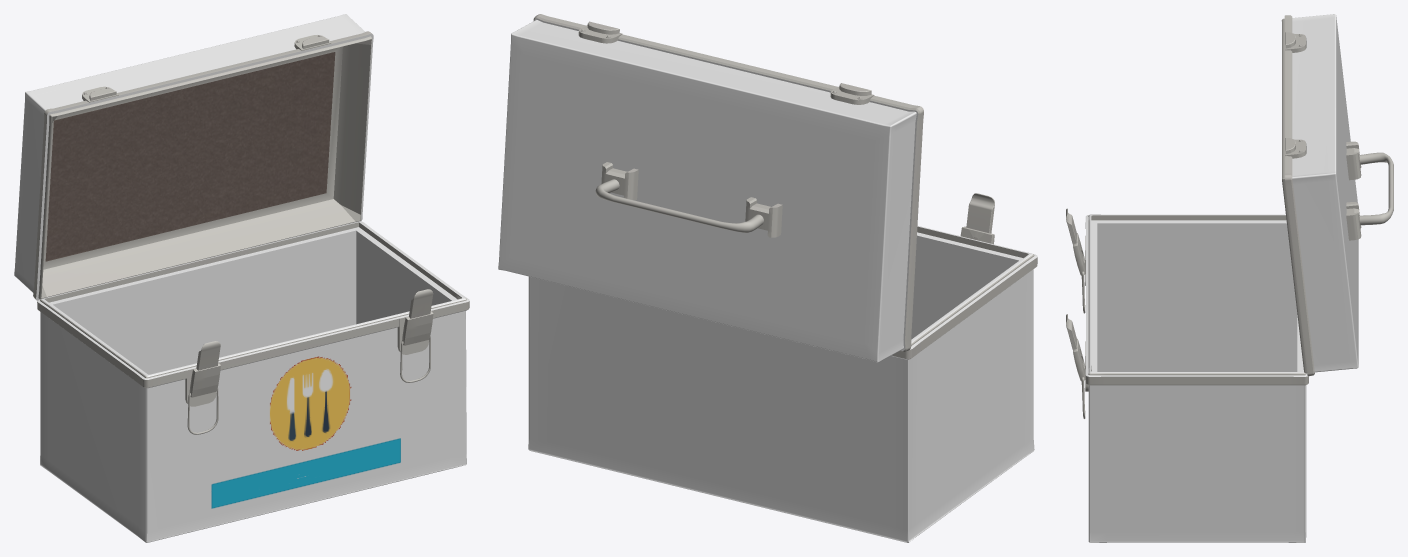
The picture shows the model from 3 angles, left to right: view 1: azimuth 30°, elevation 25°; view 2: azimuth 150°, elevation 25°; view 3: azimuth 270°, elevation 25°; orthographic projection. The views are drawn at different scales.
Parts seen in each view (by area): view 1: opened_medicinebox_v3_uv_combined_mesh_result_medicineboxv3_ (×2); view 2: opened_medicinebox_v3_uv_combined_mesh_result_medicineboxv3_ (×2); view 3: opened_medicinebox_v3_uv_combined_mesh_result_medicineboxv3_ (×2).
Part boxes in pixels (x1=…): opened_medicinebox_v3_uv_combined_mesh_result_medicineboxv3_ (×2): x1=14, y1=14, x2=469, y2=542; opened_medicinebox_v3_uv_combined_mesh_result_medicineboxv3_ (×2): x1=498, y1=14, x2=1037, y2=542; opened_medicinebox_v3_uv_combined_mesh_result_medicineboxv3_ (×2): x1=1066, y1=14, x2=1393, y2=542.
Size of the model in its own units: 36 by 38.55 by 30.7.
2 materials, 2 textured.
